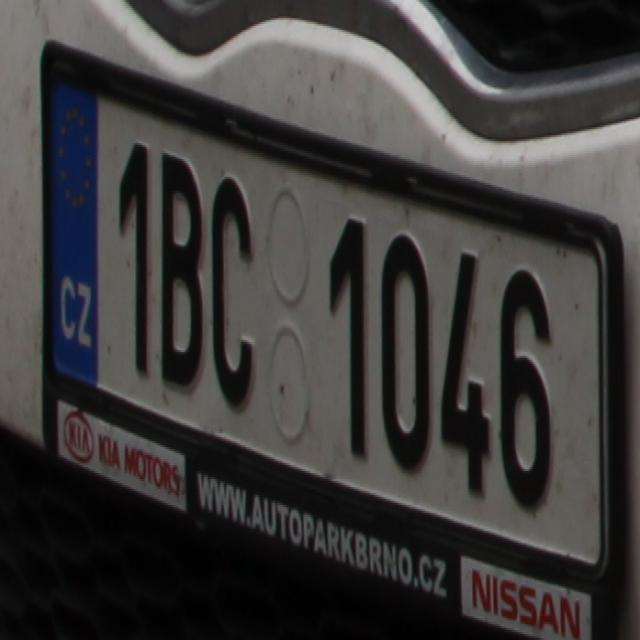0: (378, 230, 432, 470)
1: (326, 211, 369, 461), (114, 139, 150, 378)
4: (439, 248, 493, 494)
6: (496, 262, 553, 515)
B: (158, 151, 201, 384)
C: (206, 171, 254, 405)
